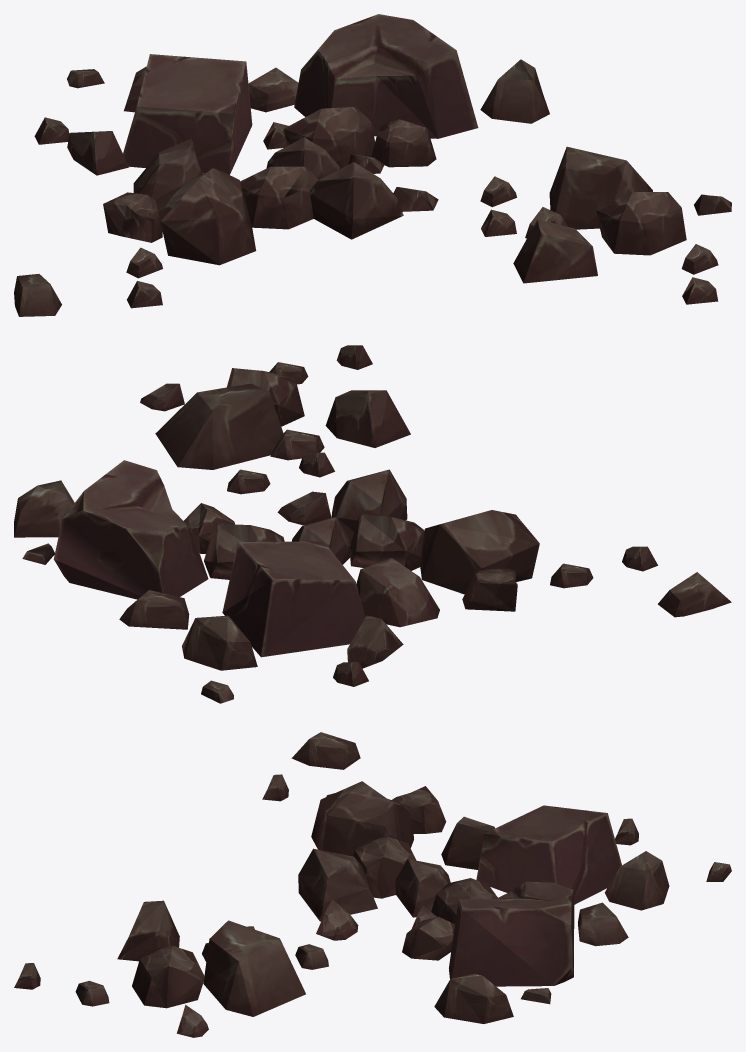
Rendered from changjing_shidui_b.FBX.
The picture shows the model from 3 angles, top to bottom: view 1: azimuth 30°, elevation 25°; view 2: azimuth 150°, elevation 25°; view 3: azimuth 270°, elevation 25°; orthographic projection. The views are drawn at different scales.
Visible parts, largest first — view 1: changjing_pvp_shidui_b; view 2: changjing_pvp_shidui_b; view 3: changjing_pvp_shidui_b.
Boxes of the visible parts, bbox=[...] form: changjing_pvp_shidui_b: bbox=[14, 14, 731, 316]; changjing_pvp_shidui_b: bbox=[14, 345, 731, 703]; changjing_pvp_shidui_b: bbox=[14, 732, 731, 1037].
Bounding box in the file's own units: 280 × 291 × 31.62.
